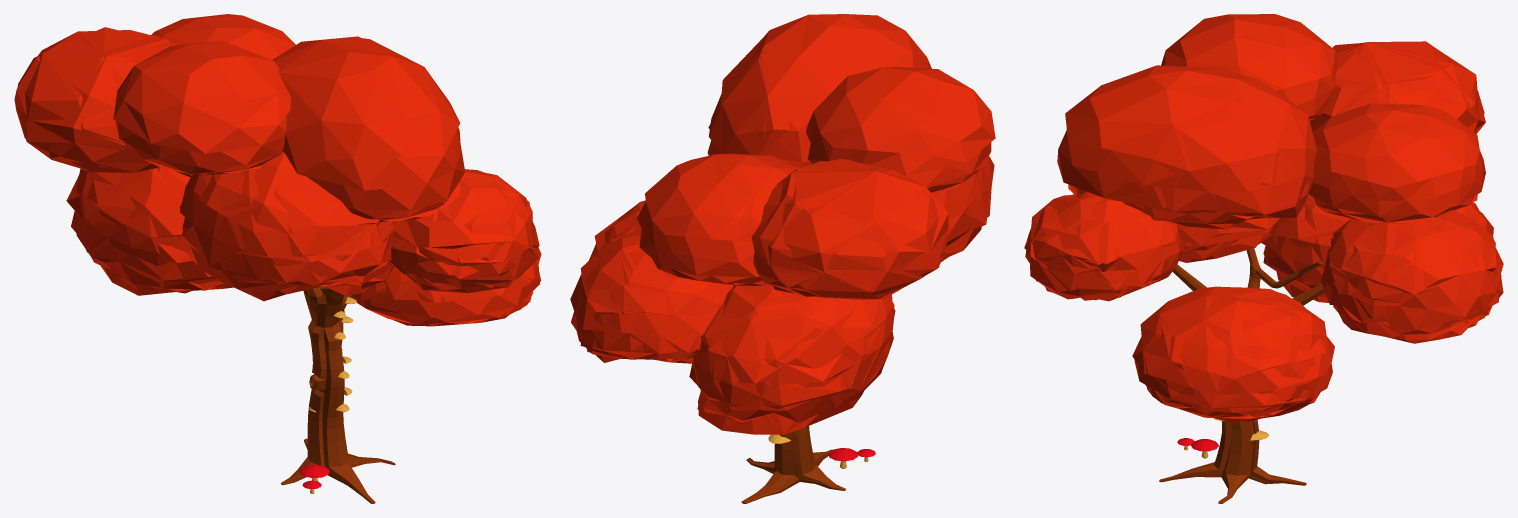
The model's file is RedPoplarTree.fbx.
3 views of the same model, side by side, from view 1: azimuth 30°, elevation 25°; view 2: azimuth 150°, elevation 25°; view 3: azimuth 270°, elevation 25° (orthographic). The views are drawn at different scales.
Visible parts, largest first — view 1: Icosphere.009, Cube; view 2: Icosphere.009, Cube; view 3: Icosphere.009, Cube.
Part boxes in pixels (<box>): Icosphere.009: <box>14,14,541,326</box>; Cube: <box>175,171,395,503</box>; Icosphere.009: <box>570,14,995,434</box>; Cube: <box>741,426,845,503</box>; Icosphere.009: <box>1024,14,1503,422</box>; Cube: <box>1159,248,1324,503</box>.
Size of the model in its own units: 25303 by 25773 by 27479.
